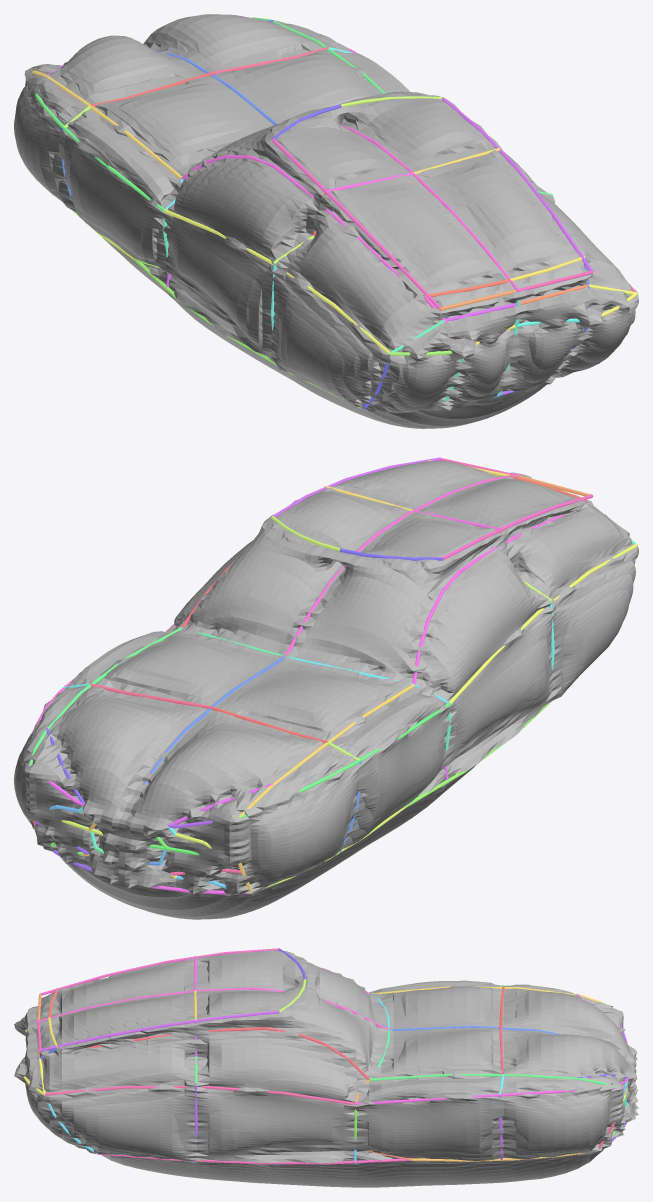
Rendered from ils_car2.gltf.
3 views of the same model, one above another, from view 1: azimuth 30°, elevation 25°; view 2: azimuth 150°, elevation 25°; view 3: azimuth 270°, elevation 25° (orthographic). The views are drawn at different scales.
Size of the model in its own units: 0.3991 by 0.3219 by 0.922.
